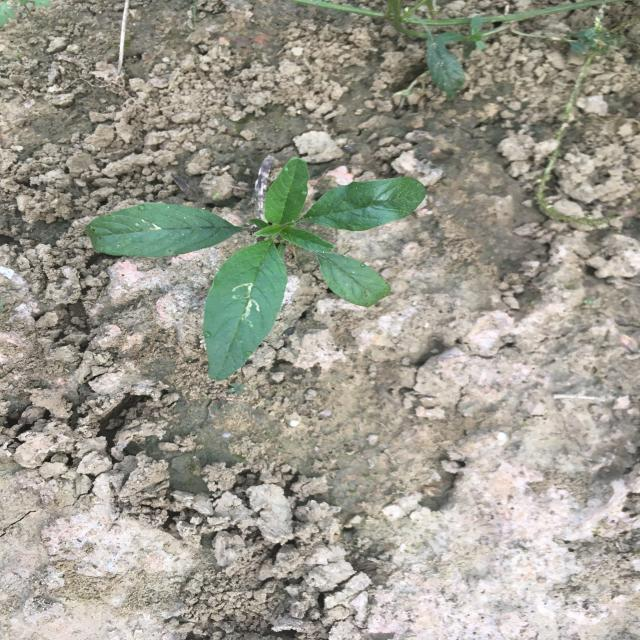Waterhemp: (81, 156, 430, 384)
